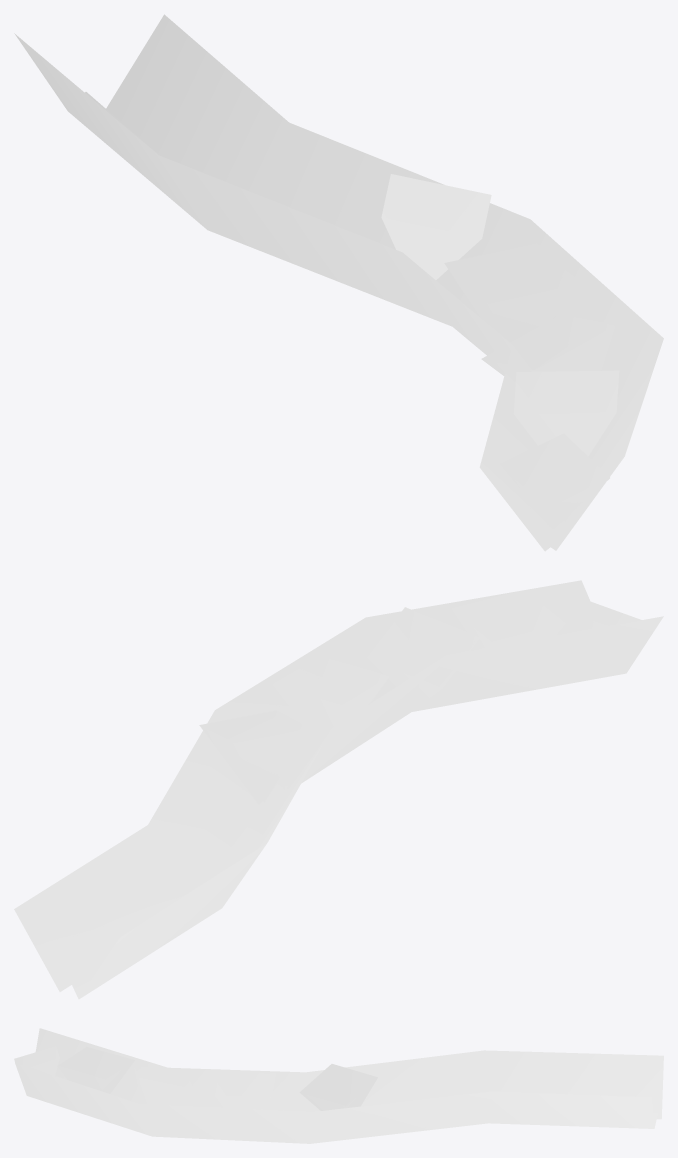
Rendered from SM_Env_Creeper_Vine_02.glb.
3 views of the same model, one above another, from view 1: azimuth 30°, elevation 25°; view 2: azimuth 150°, elevation 25°; view 3: azimuth 270°, elevation 25° (orthographic). The views are drawn at different scales.
Visible parts, largest first — view 1: SM_Env_Creeper_Vine_02; view 2: SM_Env_Creeper_Vine_02; view 3: SM_Env_Creeper_Vine_02.
Boxes of the visible parts, <box> form: SM_Env_Creeper_Vine_02: <box>14,14,663,551</box>; SM_Env_Creeper_Vine_02: <box>14,580,663,999</box>; SM_Env_Creeper_Vine_02: <box>14,1028,663,1143</box>.
Size of the model in its own units: 0.471 by 0.1755 by 1.6.
1 material, 1 textured.
